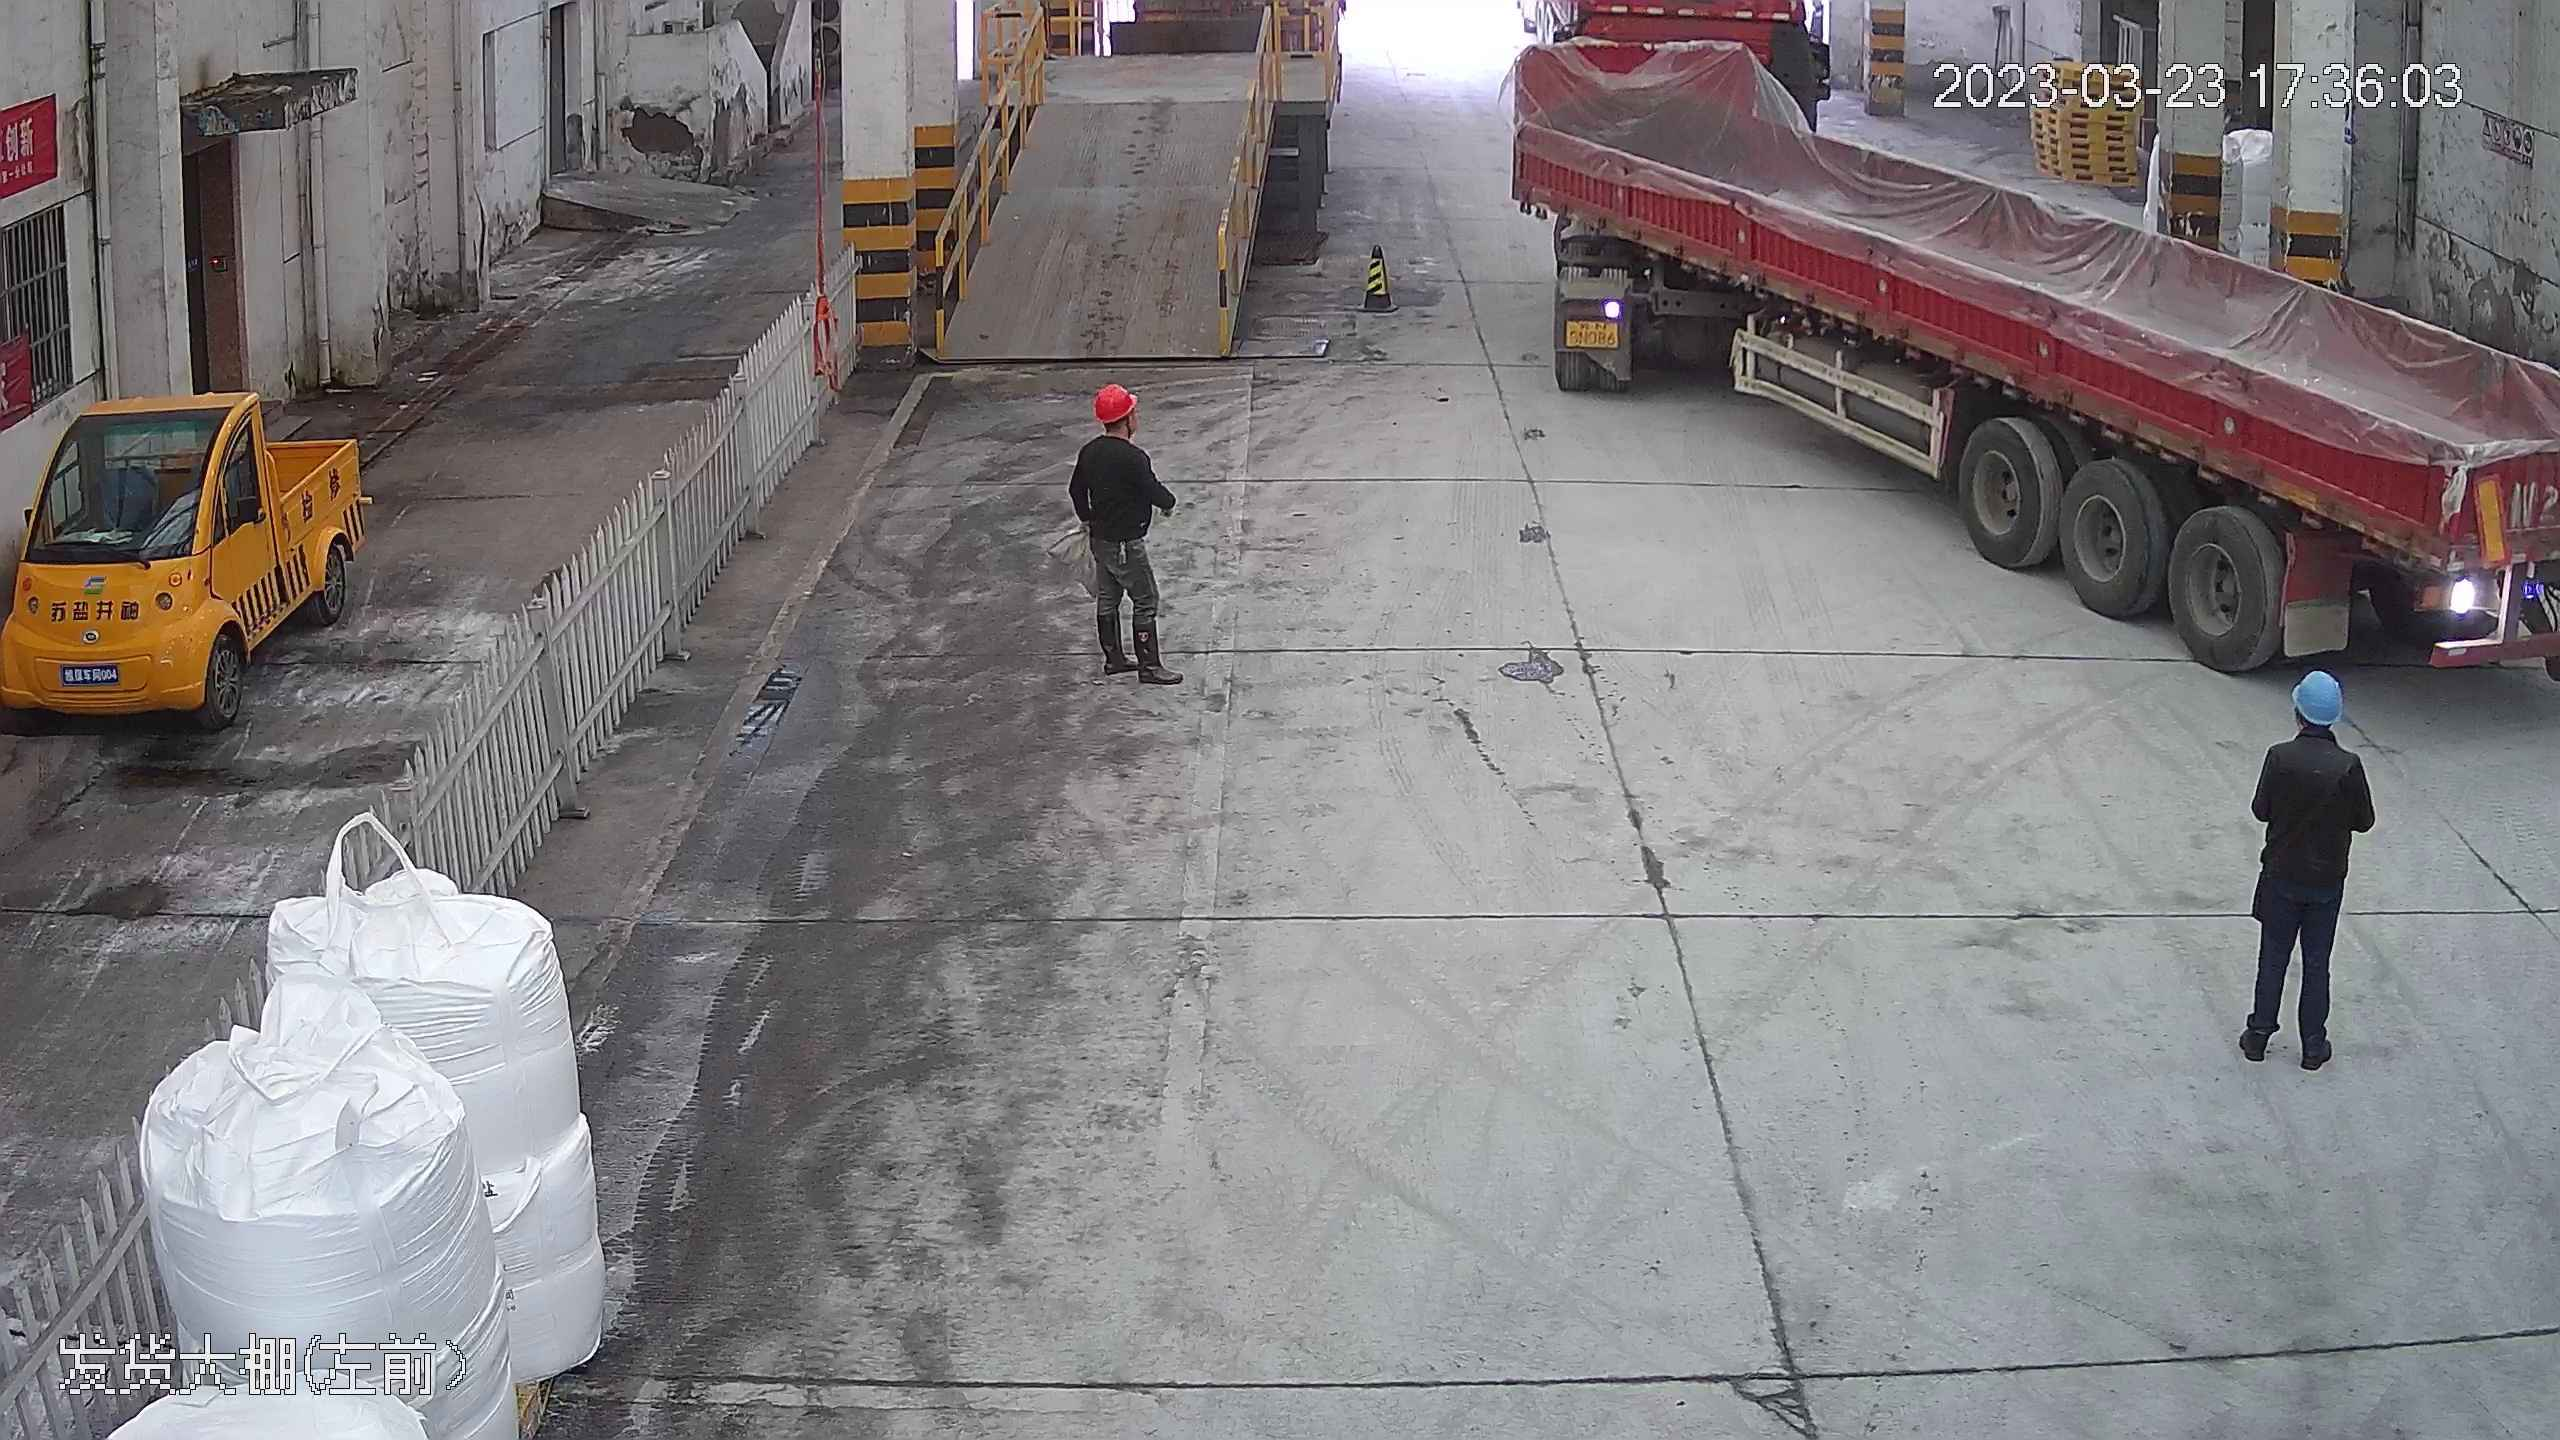head: (2260, 663, 2367, 789), (1073, 382, 1156, 471)
helmet: (2286, 667, 2349, 725), (1089, 382, 1140, 420)
people: (2228, 657, 2378, 1076), (1068, 380, 1183, 686)
truck: (1517, 1, 2560, 747)
